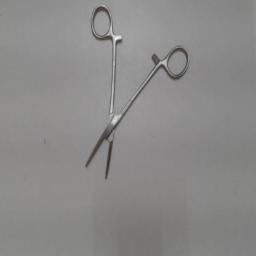Mayo Needle Holder: (78, 1, 196, 189)
